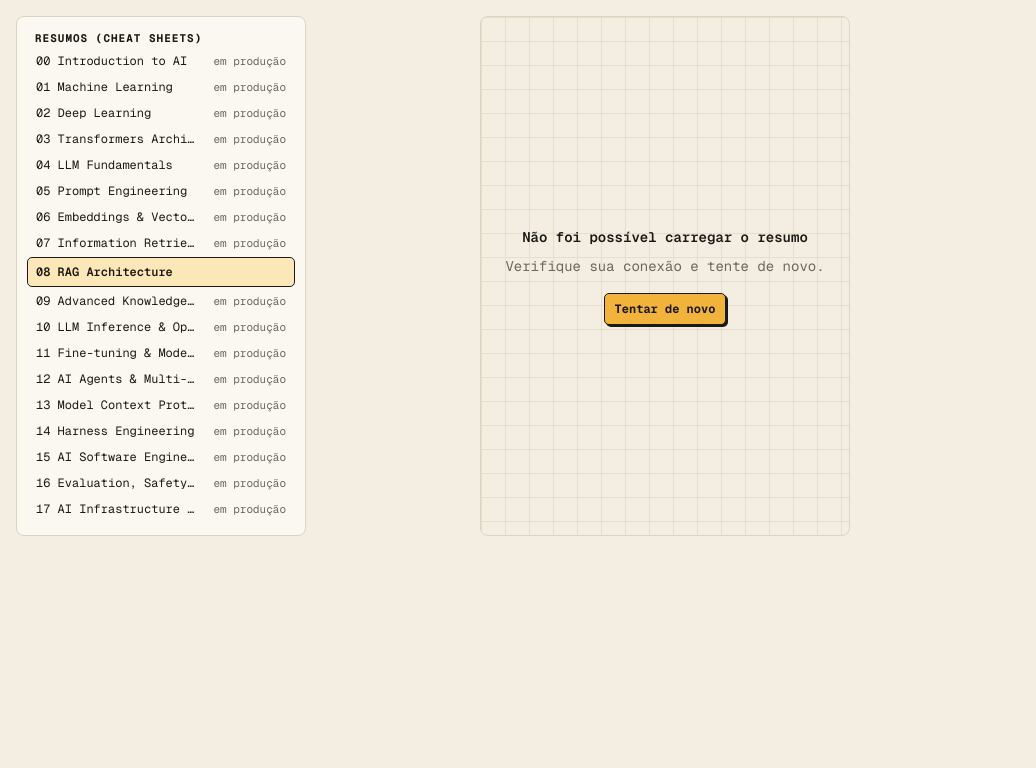
SummariesPage (SUM-01.1) › falha ao carregar o resumo mostra tentar de novo, que recarrega
The width and height of the screenshot is (1036, 768).
Check: the text "Não foi possível carregar o resumo" is shown, box top-left (522, 227), bottom-right (808, 247)
Click the button "Tentar de novo": (665, 309) top-left (604, 293), bottom-right (726, 325)
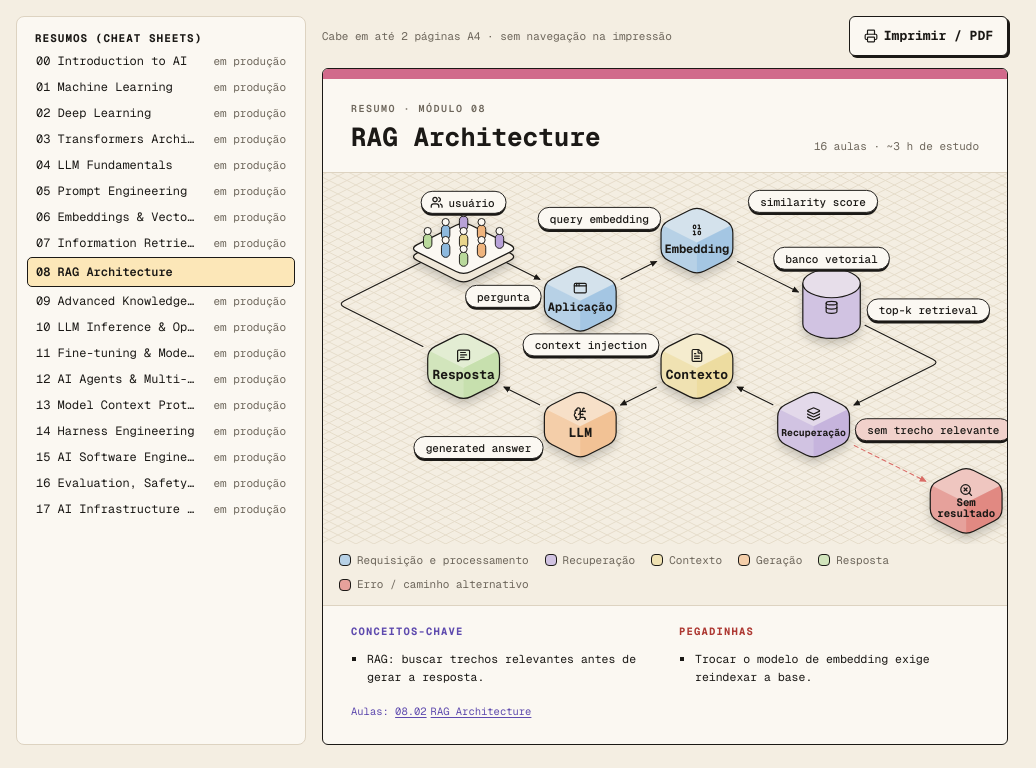
Check: the heading "RAG Architecture" is shown, box top-left (351, 120), bottom-right (601, 154)
